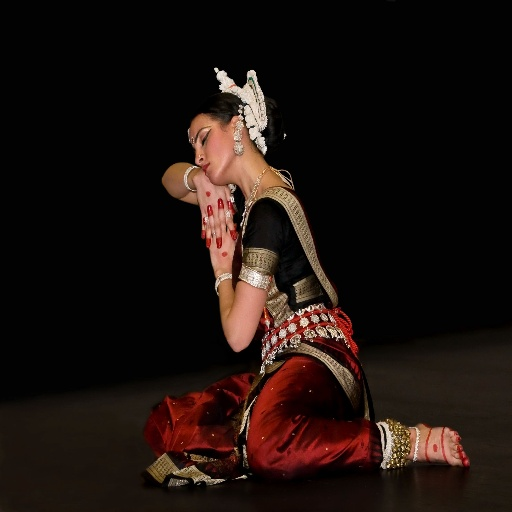hand: (194, 169, 236, 250), (207, 200, 240, 272)
